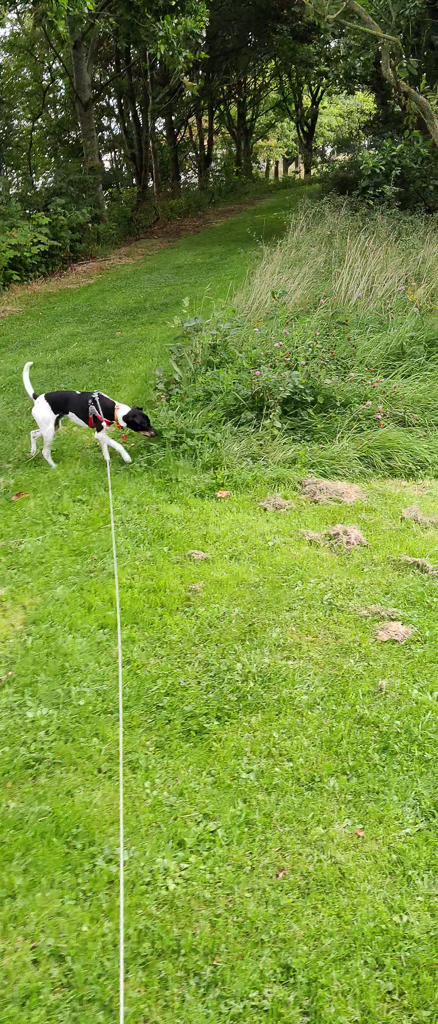Dog: (7, 350, 167, 476)
